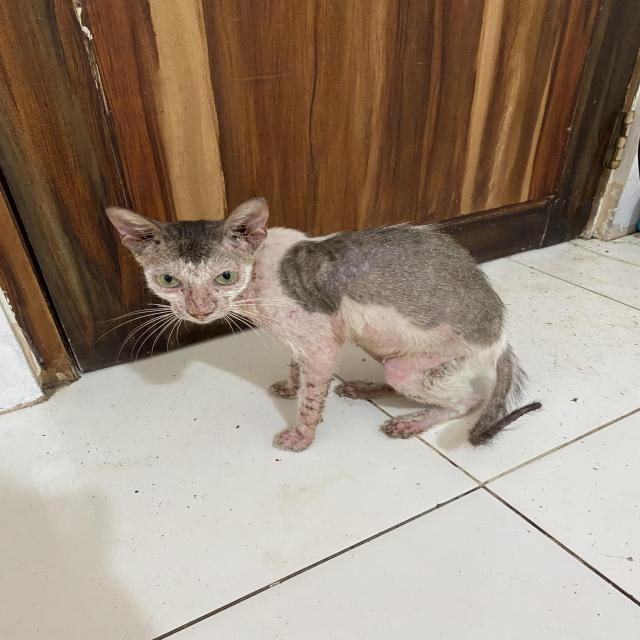Mange: (303, 352, 337, 386), (249, 276, 273, 316), (363, 332, 396, 352), (388, 359, 416, 382), (302, 392, 324, 419), (284, 430, 312, 450), (436, 330, 464, 348), (397, 416, 424, 434), (190, 292, 210, 310)
